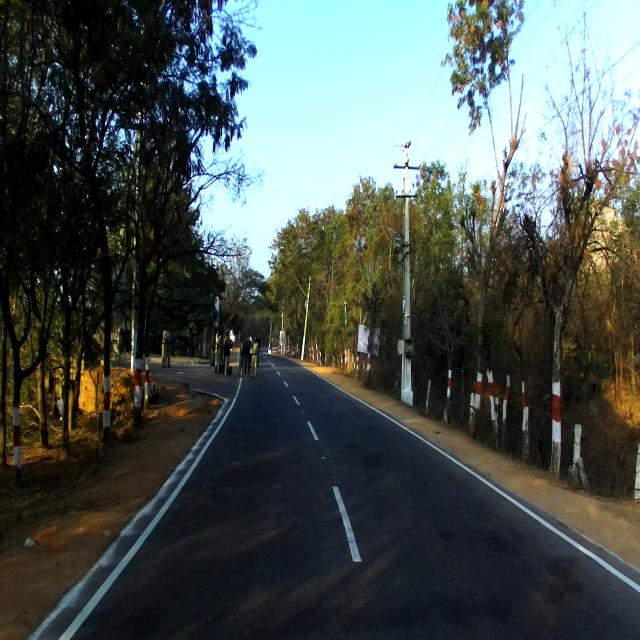electric pole ahead at: (387, 133, 425, 414)
tree ahead at: (71, 147, 123, 472), (4, 269, 47, 505)
